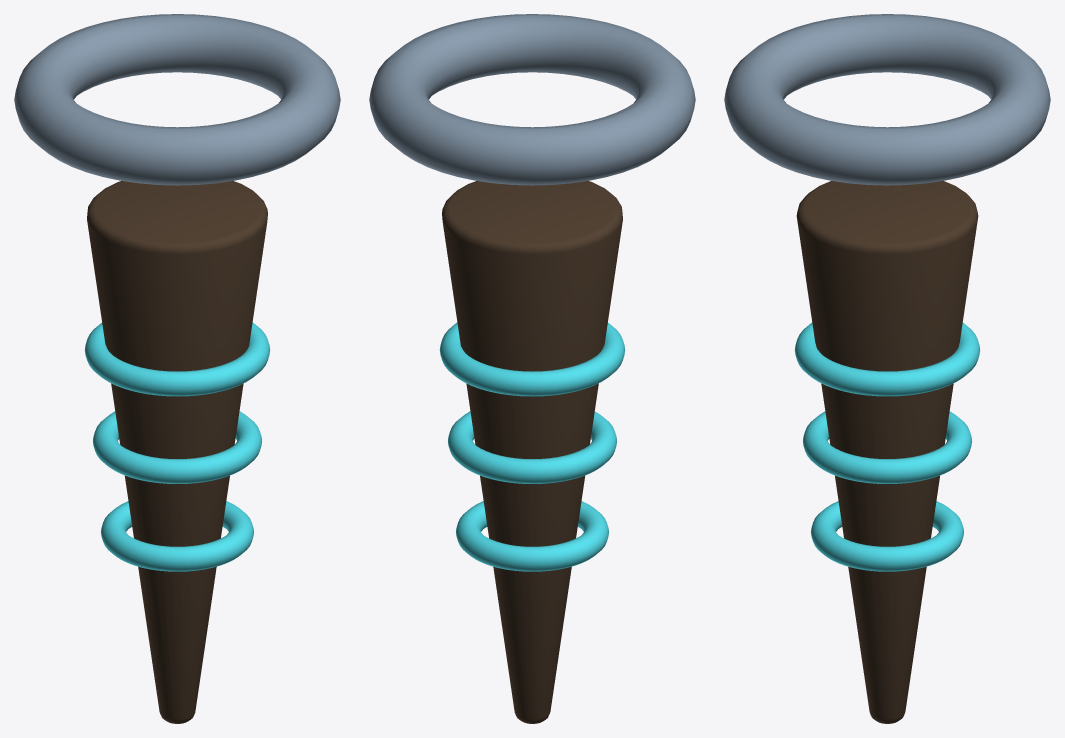
The model's file is earring_v8.glb.
The picture shows the model from 3 angles, left to right: view 1: azimuth 30°, elevation 25°; view 2: azimuth 150°, elevation 25°; view 3: azimuth 270°, elevation 25°; orthographic projection.
Visible parts, largest first — view 1: TUSK_DROP_SECONDARY, TUSK_HOOP_PRIMARY, TUSK_BAND_ACCENT, TUSK_BAND_ACCENT.001, TUSK_BAND_ACCENT.002; view 2: TUSK_DROP_SECONDARY, TUSK_HOOP_PRIMARY, TUSK_BAND_ACCENT, TUSK_BAND_ACCENT.001, TUSK_BAND_ACCENT.002; view 3: TUSK_DROP_SECONDARY, TUSK_HOOP_PRIMARY, TUSK_BAND_ACCENT, TUSK_BAND_ACCENT.001, TUSK_BAND_ACCENT.002.
Boxes of the visible parts, x1,y1,x2,y2 form: TUSK_DROP_SECONDARY: [87, 181, 267, 723]; TUSK_HOOP_PRIMARY: [14, 14, 340, 185]; TUSK_BAND_ACCENT: [84, 322, 270, 396]; TUSK_BAND_ACCENT.001: [93, 411, 261, 483]; TUSK_BAND_ACCENT.002: [101, 501, 253, 571]; TUSK_DROP_SECONDARY: [442, 181, 622, 723]; TUSK_HOOP_PRIMARY: [369, 14, 695, 185]; TUSK_BAND_ACCENT: [439, 322, 625, 396]; TUSK_BAND_ACCENT.001: [448, 411, 616, 483]; TUSK_BAND_ACCENT.002: [456, 501, 608, 571]; TUSK_DROP_SECONDARY: [796, 181, 978, 723]; TUSK_HOOP_PRIMARY: [724, 14, 1050, 185]; TUSK_BAND_ACCENT: [794, 322, 980, 396]; TUSK_BAND_ACCENT.001: [803, 411, 971, 483]; TUSK_BAND_ACCENT.002: [811, 501, 963, 571].
Bounding box in the file's own units: 0.78 × 1.71 × 0.78.
